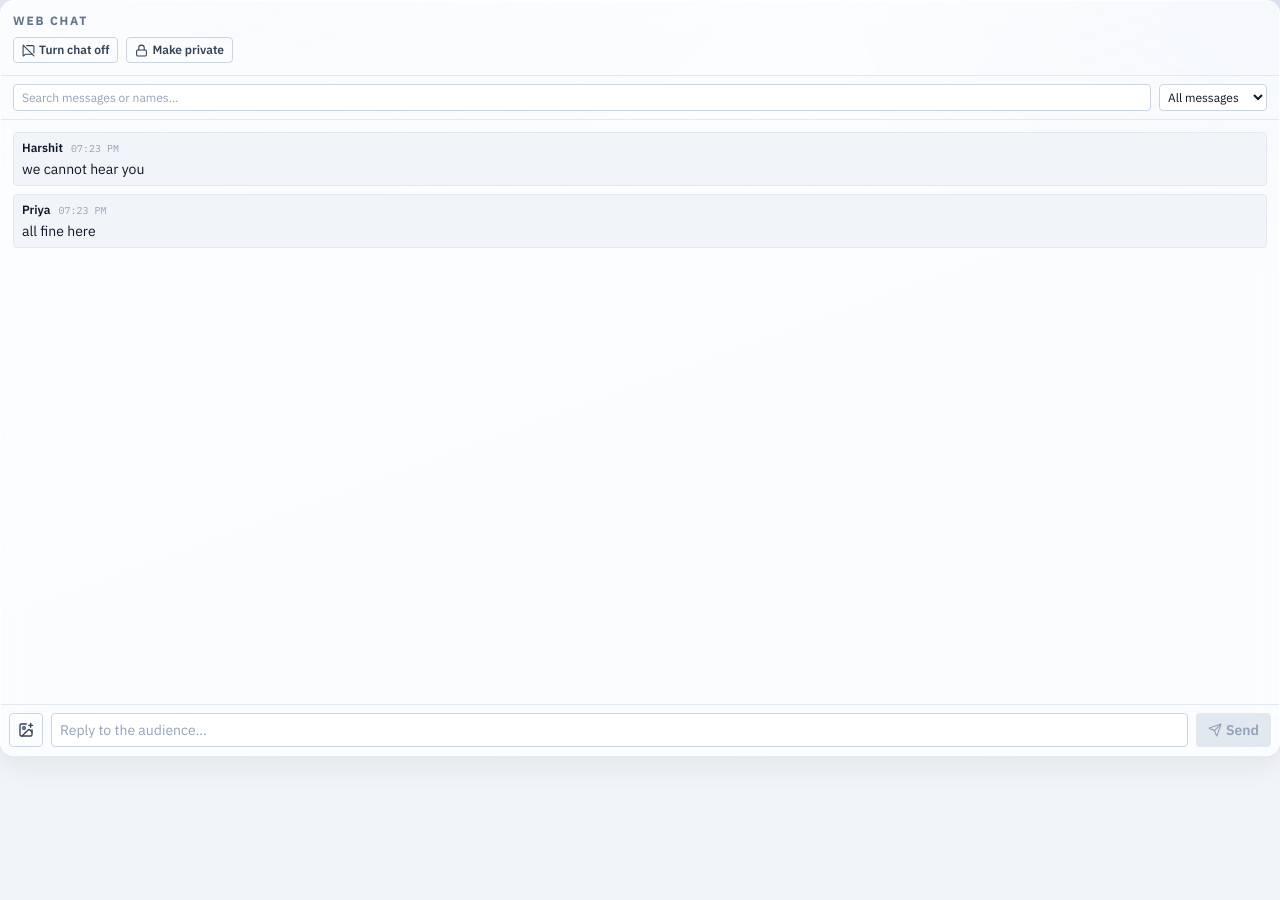
it: searching narrows the messages, and says so when nothing matches
This screenshot has width=1280, height=900.
Type "hear" into the field with test id "chat-search" at {"x": 582, "y": 98}, box x1=13 y1=84 x2=1151 y2=111
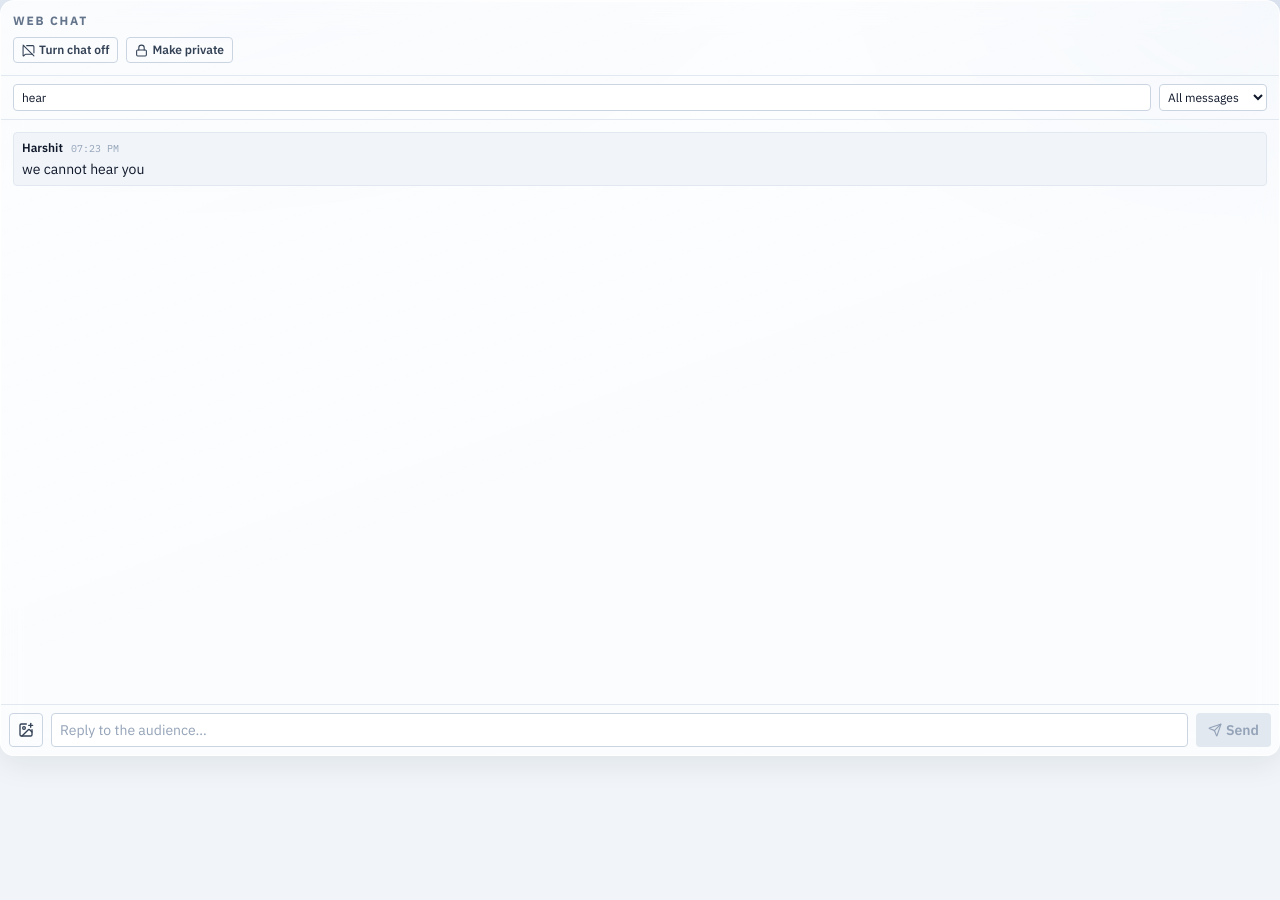
Expected: the element with test id "chat-message-1" is shown, x1=13 y1=132 x2=1267 y2=186
Now the element with test id "chat-message-2" is gone
Replace the text in the field with test id "chat-search" with "zzz" at {"x": 582, "y": 98}, box x1=13 y1=84 x2=1151 y2=111
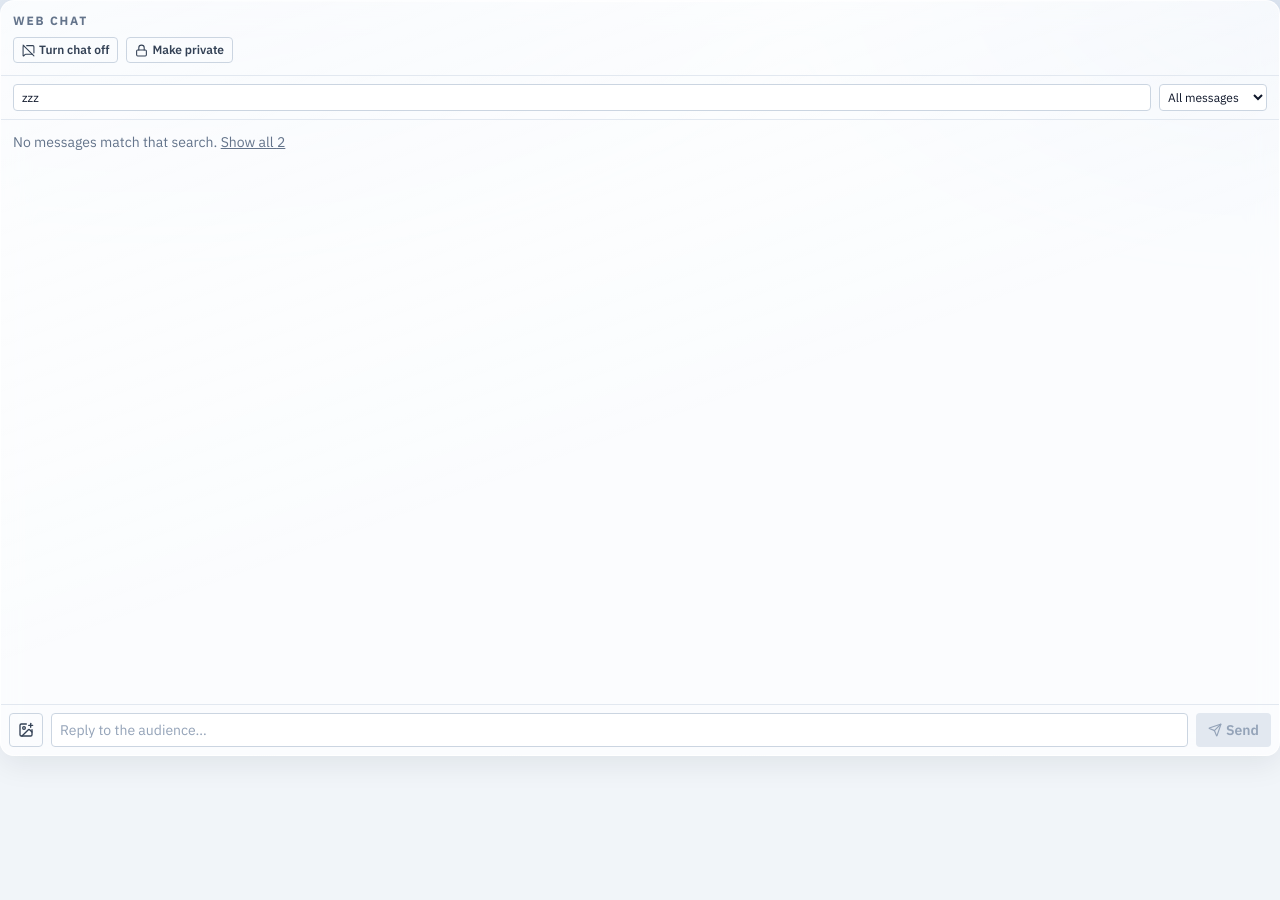
Now the element with test id "chat-no-matches" is shown, box x1=13 y1=132 x2=285 y2=152
Click the button with test id "chat-clear-filter" at {"x": 253, "y": 142}, box x1=221 y1=132 x2=285 y2=152
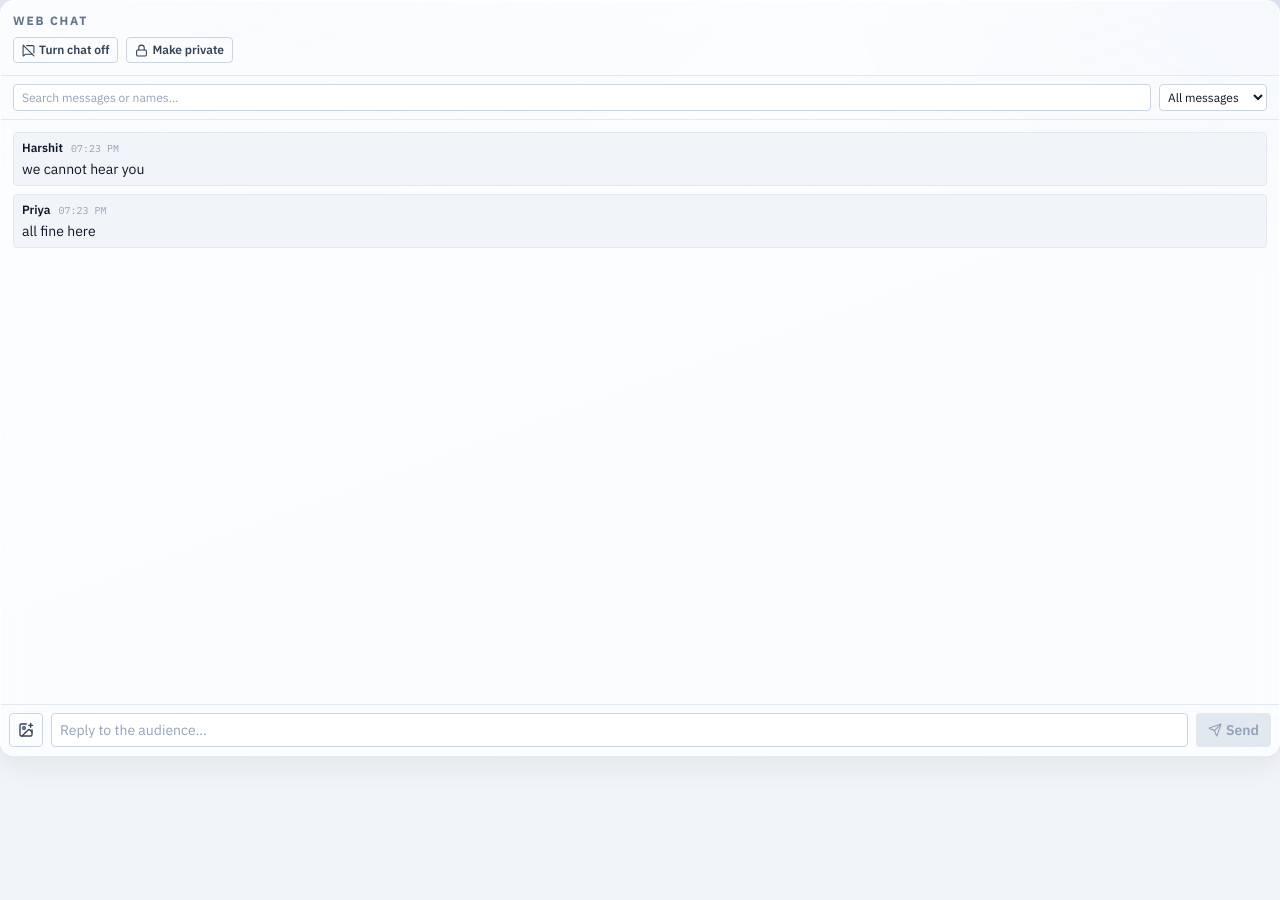
Now the element with test id "chat-message-2" is shown, box x1=13 y1=194 x2=1267 y2=248
